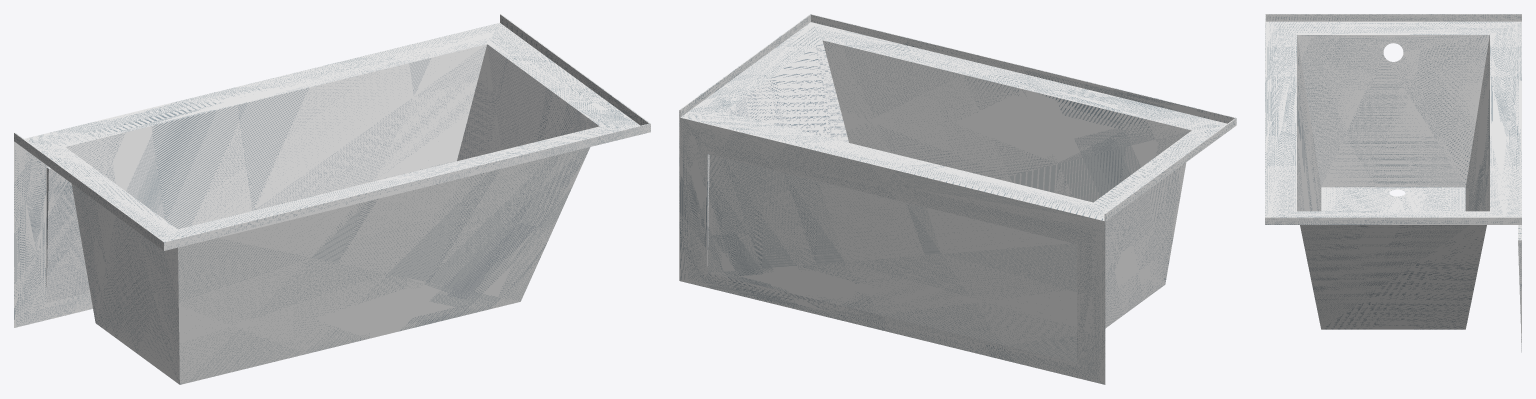
3 views of the same model, side by side, from view 1: azimuth 30°, elevation 25°; view 2: azimuth 150°, elevation 25°; view 3: azimuth 270°, elevation 25° (orthographic). The views are drawn at different scales.
Visible parts, largest first — view 1: Simplicity_II_tub (×3); view 2: Simplicity_II_tub (×3); view 3: Simplicity_II_tub (×3).
Boxes of the visible parts, x1,y1,x2,y2 form: Simplicity_II_tub (×3): (14,14,650,384); Simplicity_II_tub (×3): (679,14,1236,384); Simplicity_II_tub (×3): (1265,14,1521,352).
Size of the model in its own units: 60 by 32 by 23.
